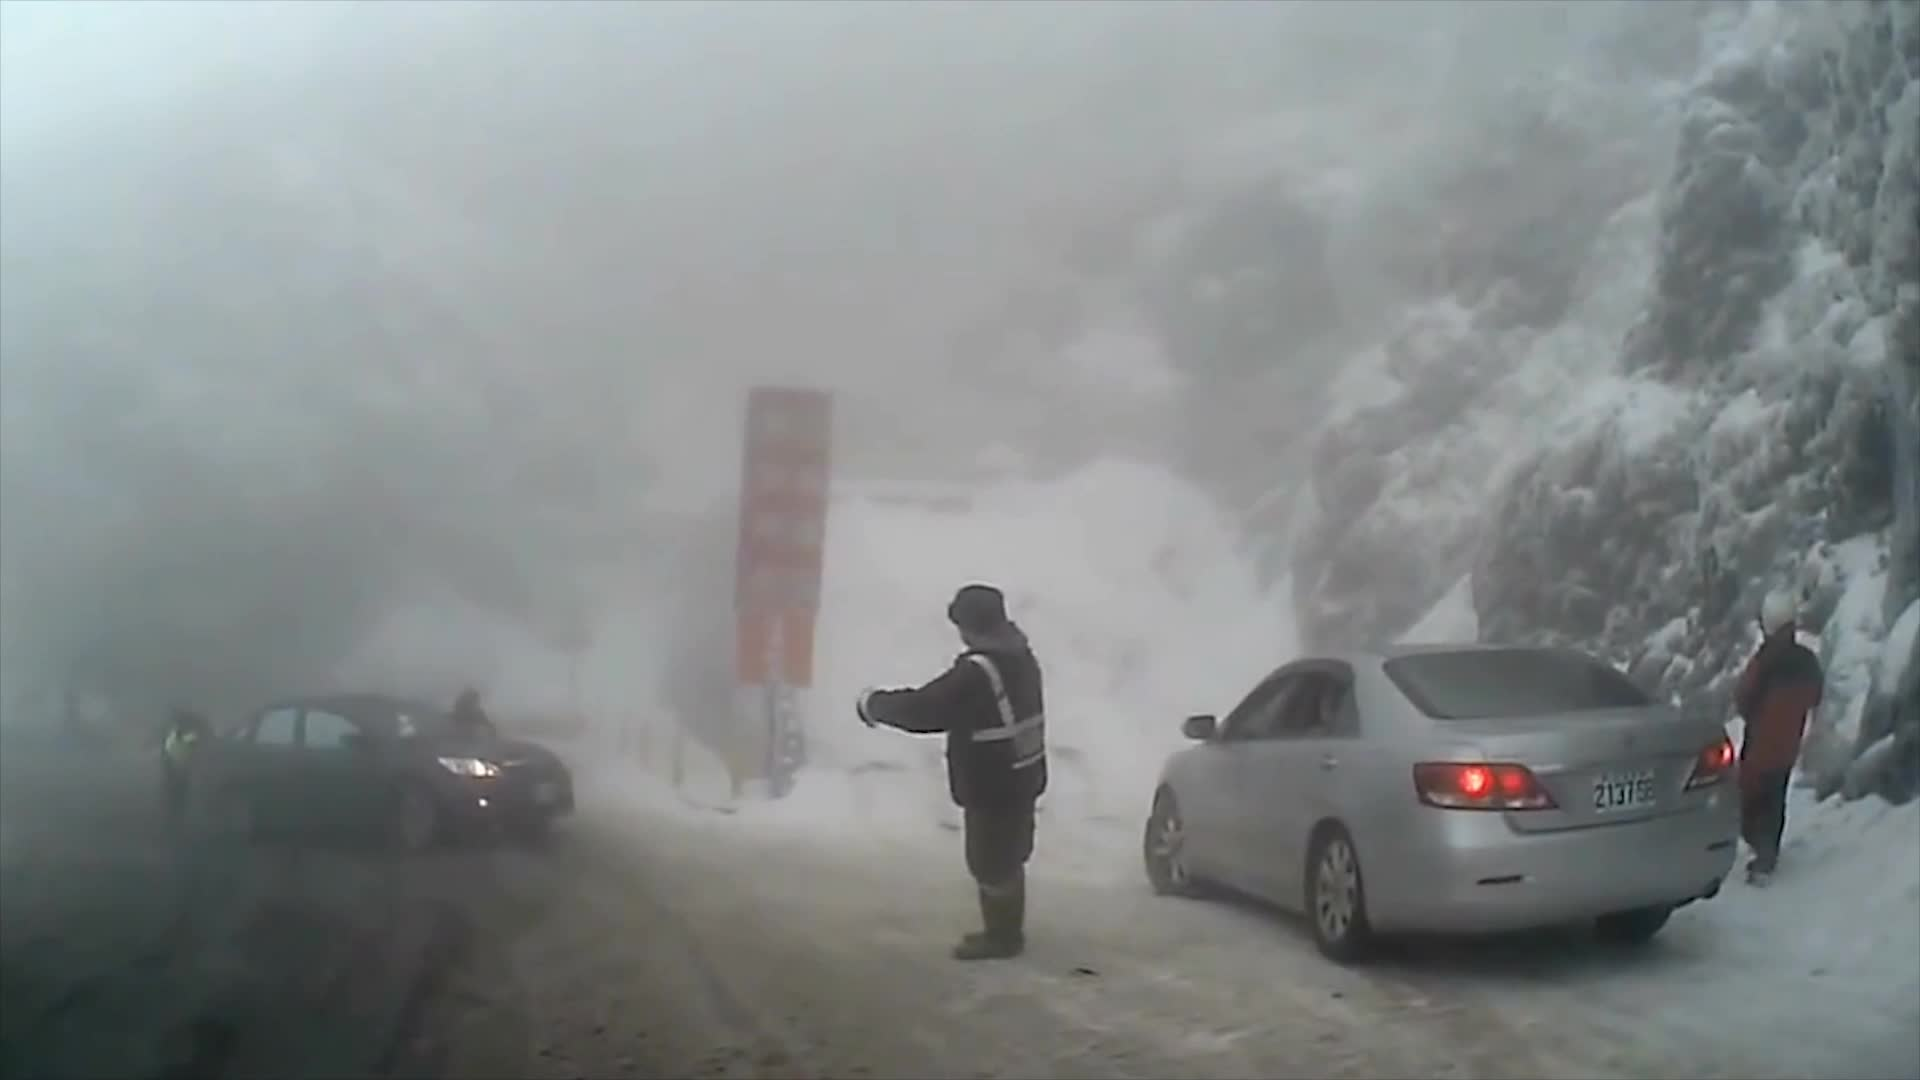pedestrian: (853, 587, 1049, 959), (1726, 587, 1822, 886), (158, 712, 216, 824)
vehicle: (1142, 640, 1740, 959), (199, 683, 579, 851)
